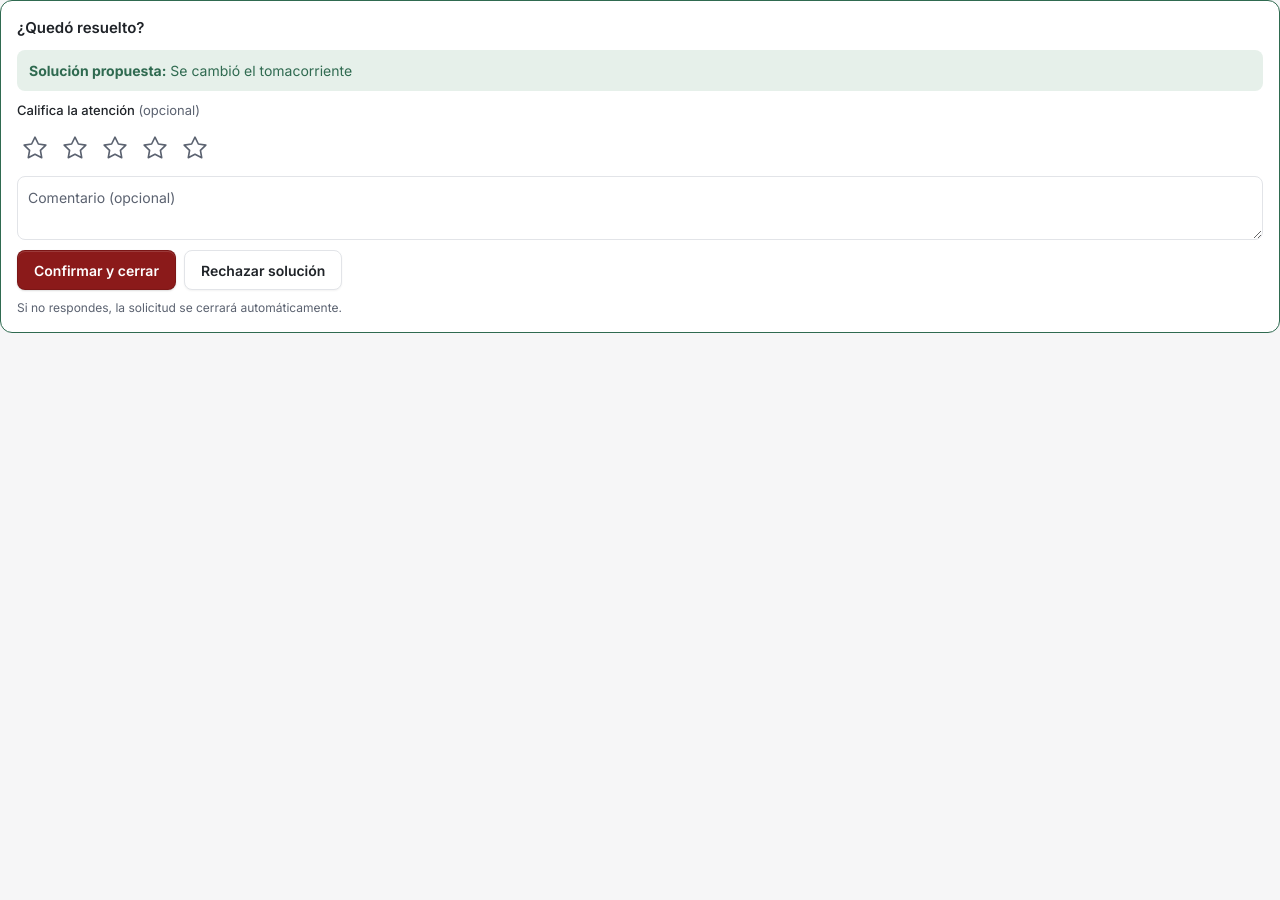
Test: SatisfactionPanel: solicitud resuelta › confirmar sin calificar solo cierra la solicitud
This screenshot has width=1280, height=900.
Step 1. Click the button "Confirmar y cerrar" → (96, 270), box [17, 250, 176, 290]
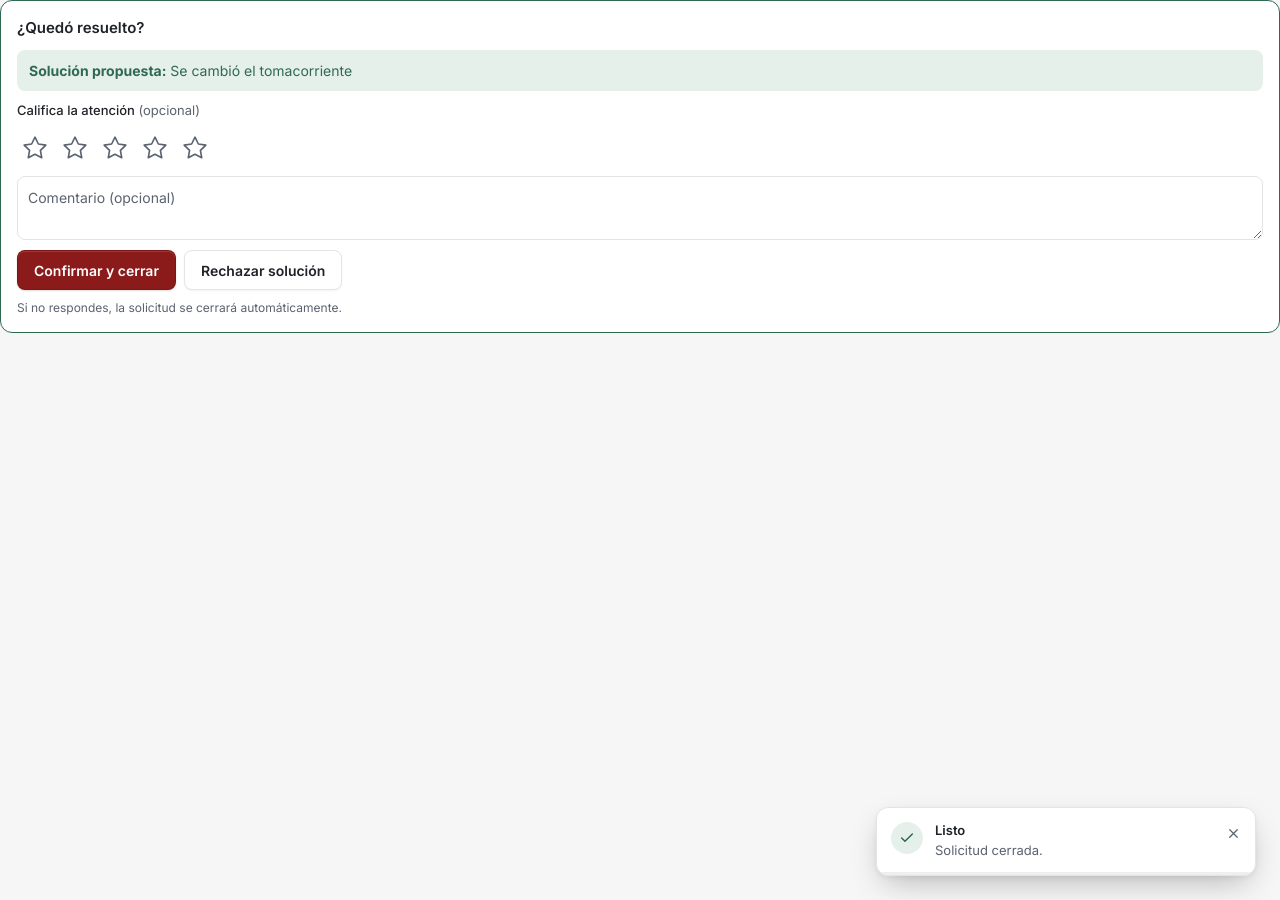
Expected: the text "Solicitud cerrada." is shown, [935, 842, 1043, 858]
